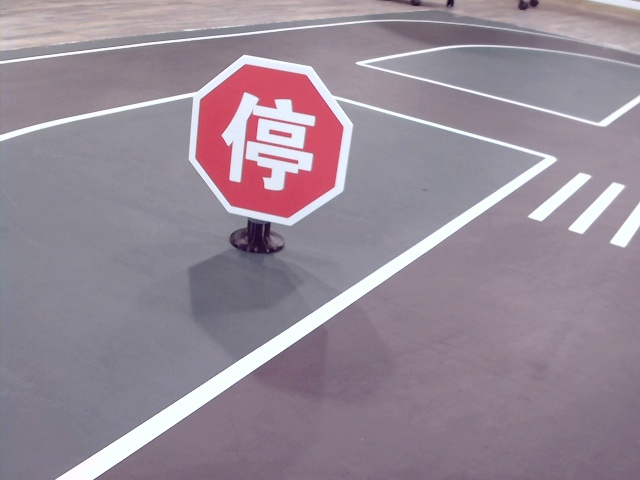stop: (217, 87, 316, 189)
